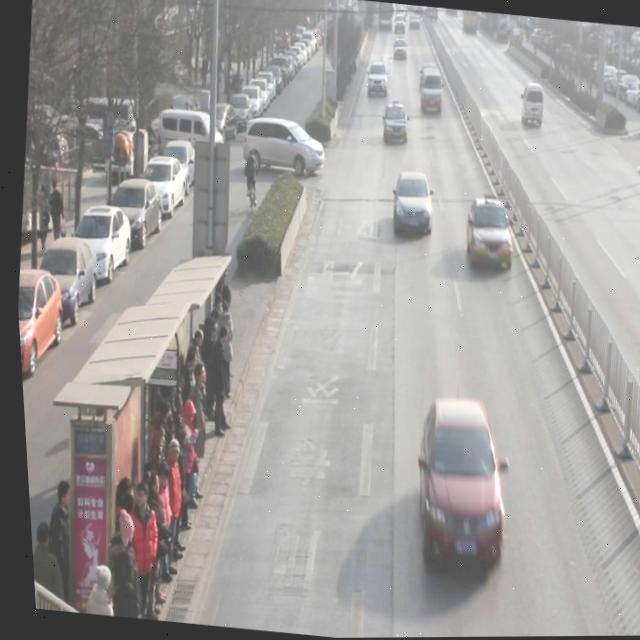car: (400, 395, 513, 578), (458, 197, 515, 272), (386, 169, 435, 240), (379, 101, 410, 145), (364, 58, 390, 98), (416, 63, 437, 96)
truck: (416, 66, 446, 116), (517, 80, 546, 129)
